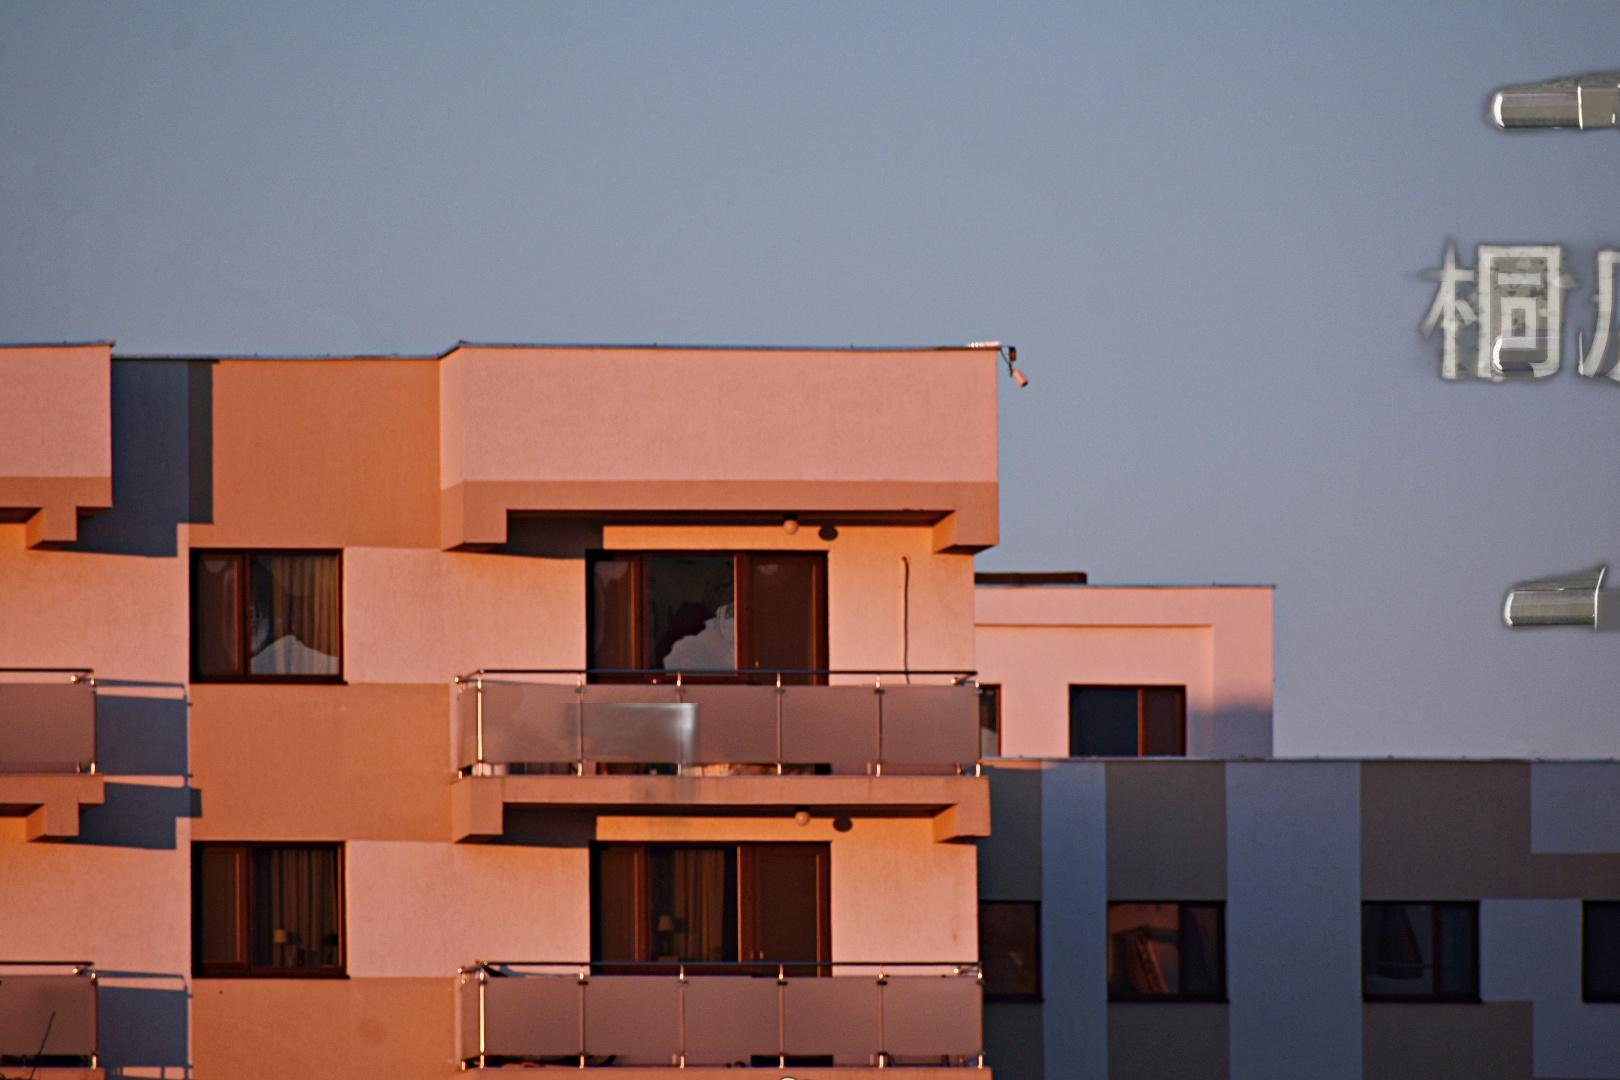penholder: (1327, 53, 1620, 785)
plastic-bottles: (752, 1072, 826, 1080)
trashbox-cardboard: (430, 703, 820, 984)
